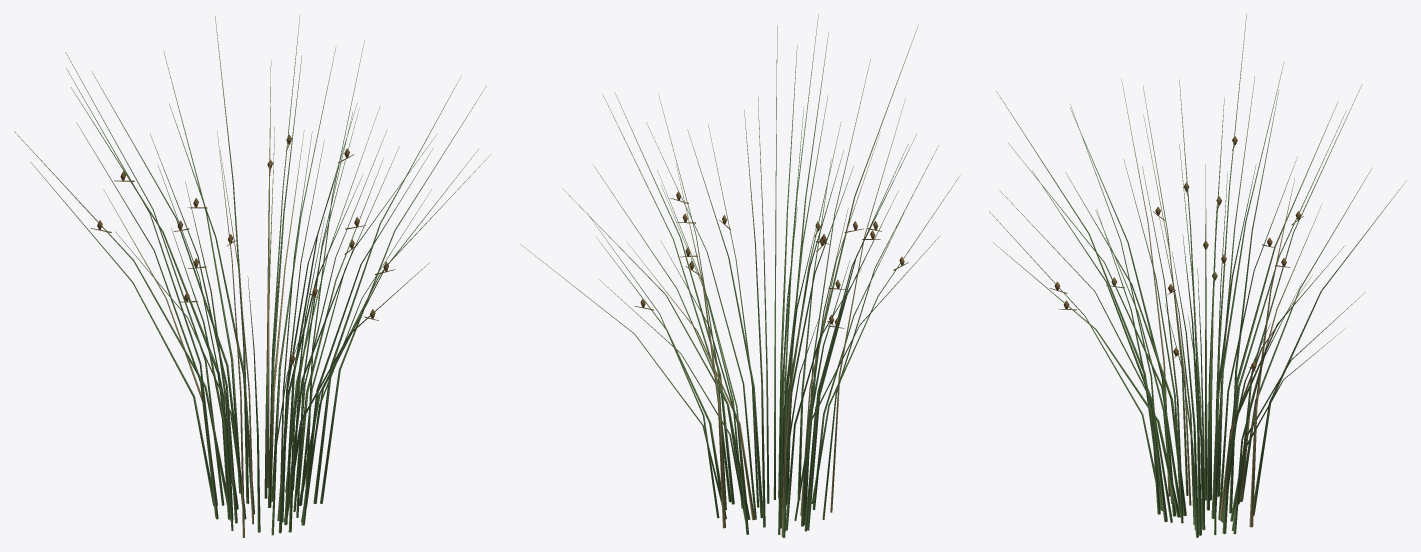
Rendered from Woodland_Rush_Clump_02_LOD1.fbx.
3 views of the same model, side by side, from view 1: azimuth 30°, elevation 25°; view 2: azimuth 150°, elevation 25°; view 3: azimuth 270°, elevation 25° (orthographic). The views are drawn at different scales.
Visible parts, largest first — view 1: Woodland_Rush_Clump_02_LOD1_Foliage; view 2: Woodland_Rush_Clump_02_LOD1_Foliage; view 3: Woodland_Rush_Clump_02_LOD1_Foliage.
Part boxes in pixels (bbox=[...]): Woodland_Rush_Clump_02_LOD1_Foliage: bbox=[14, 14, 490, 537]; Woodland_Rush_Clump_02_LOD1_Foliage: bbox=[520, 14, 960, 537]; Woodland_Rush_Clump_02_LOD1_Foliage: bbox=[989, 14, 1406, 537].
Size of the model in its own units: 92.91 by 110 by 98.17.
